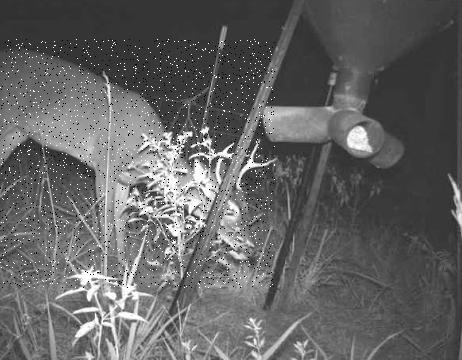Deer: (0, 39, 275, 288)
